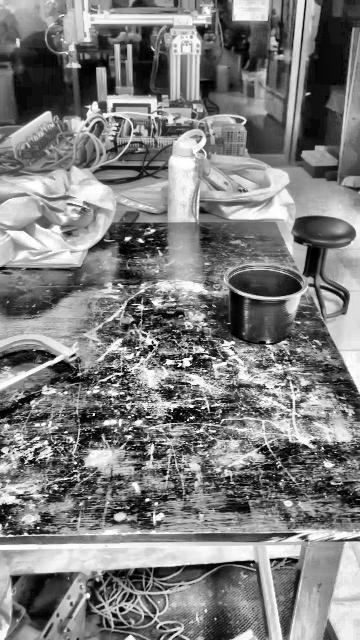pot: (226, 264, 307, 344)
